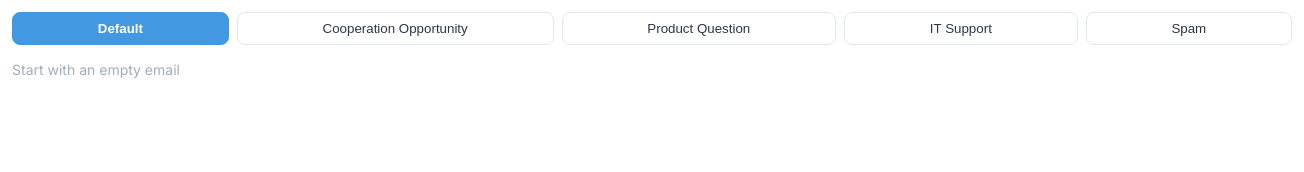
Scenario: updates email content when preset clicked
This screenshot has width=1304, height=172.
Click the button "Product Question".
click(699, 28)  # box x1=562 y1=12 x2=836 y2=45
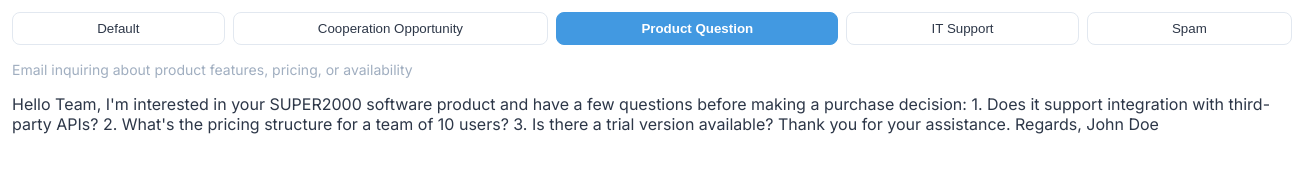
Check: the text with test id "content" shows "SUPER2000", box x1=12 y1=94 x2=1270 y2=134
